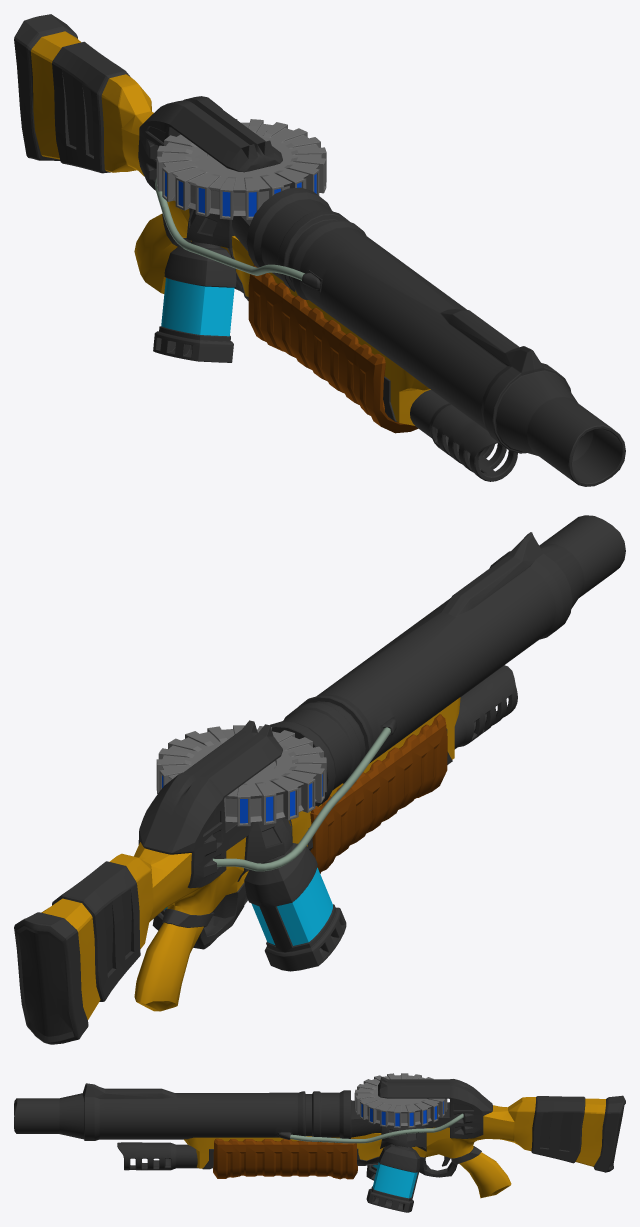
Rendered from Frost_Cannon_ID.fbx.
3 views of the same model, one above another, from view 1: azimuth 30°, elevation 25°; view 2: azimuth 150°, elevation 25°; view 3: azimuth 270°, elevation 25° (orthographic). The views are drawn at different scales.
Parts seen in each view (by area): view 1: Frost_Cannon_ID; view 2: Frost_Cannon_ID; view 3: Frost_Cannon_ID.
Boxes of the visible parts, <box> form: Frost_Cannon_ID: <box>14,14,625,486</box>; Frost_Cannon_ID: <box>14,515,625,1044</box>; Frost_Cannon_ID: <box>14,1073,625,1212</box>.
Size of the model in its own units: 31.77 by 38.95 by 182.
